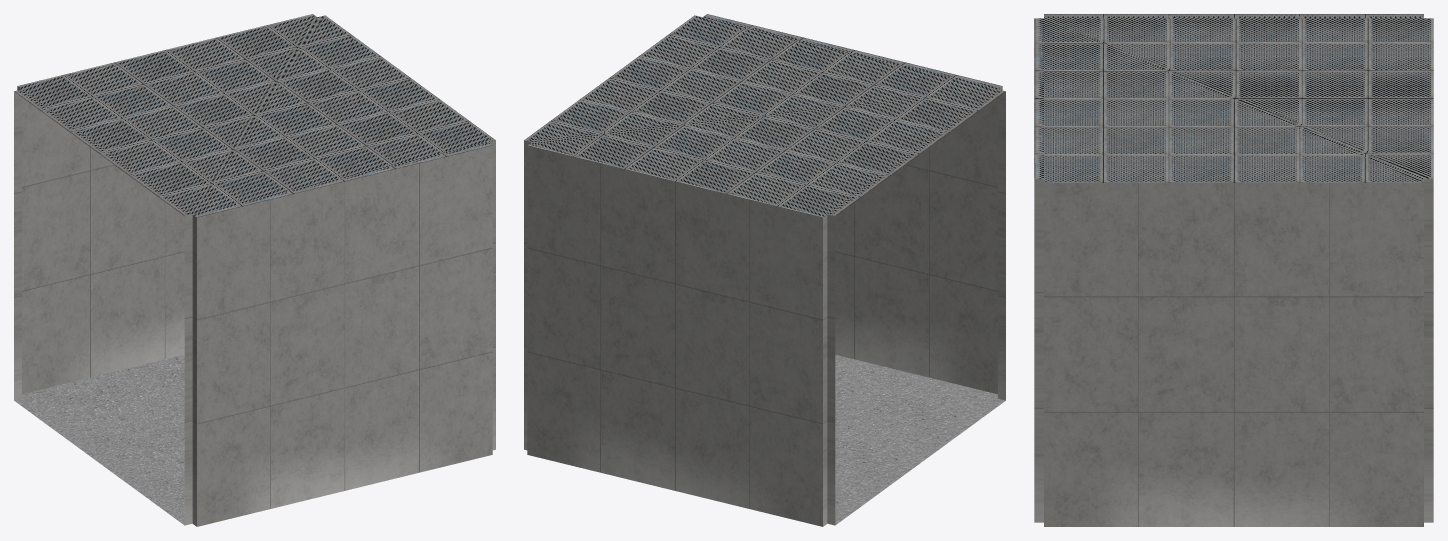
File: DeadEnd.fbx
3 views of the same model, side by side, from view 1: azimuth 30°, elevation 25°; view 2: azimuth 150°, elevation 25°; view 3: azimuth 270°, elevation 25° (orthographic). The views are drawn at different scales.
Visible parts, largest first — view 1: Room; view 2: Room; view 3: Room.
Boxes of the visible parts, <box> form: Room: <box>14,14,495,526</box>; Room: <box>524,14,1005,526</box>; Room: <box>1034,14,1433,526</box>.
Bounding box in the file's own units: 200 × 190 × 200.
